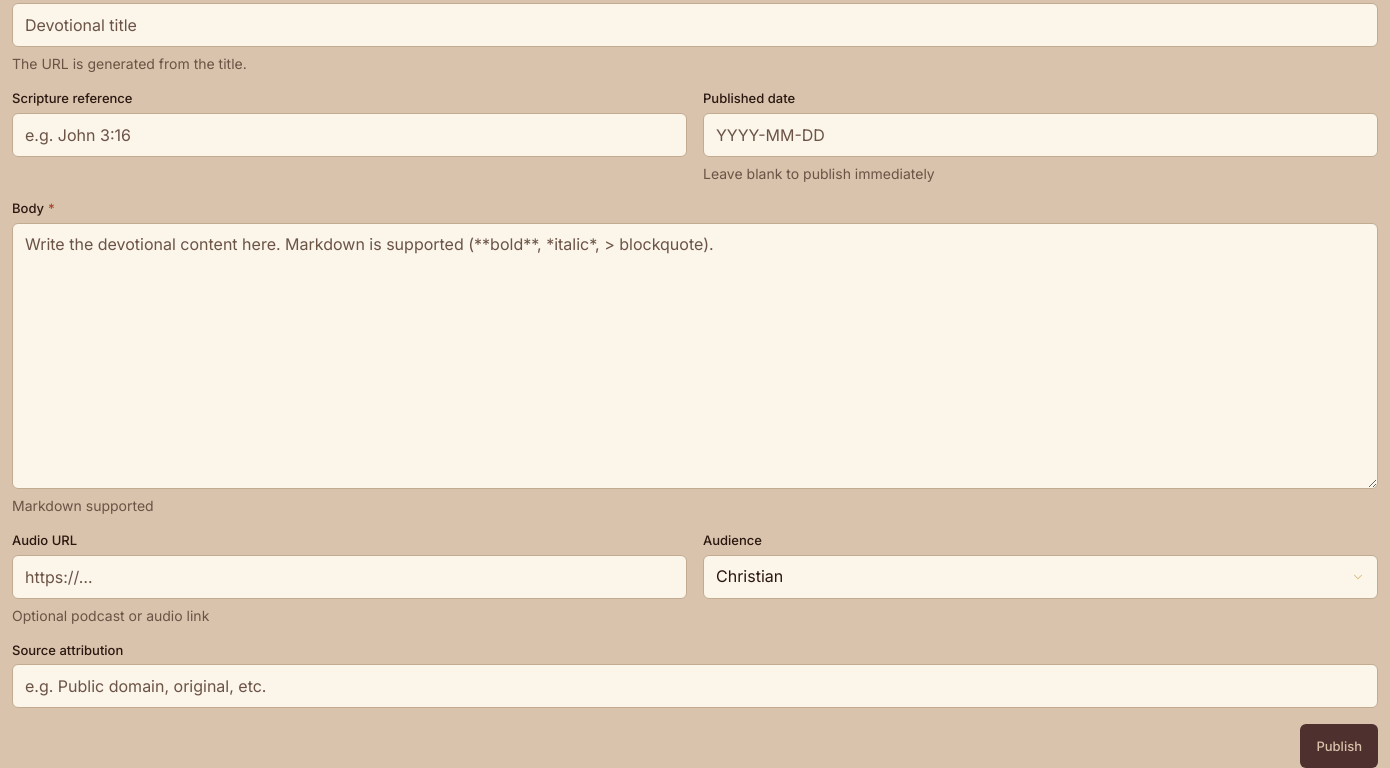
Test: DevotionalForm › shows validation error when title is empty on submit
(page scrolled)
Click the button "Publish" at (1339, 746), box [1300,724,1378,767]
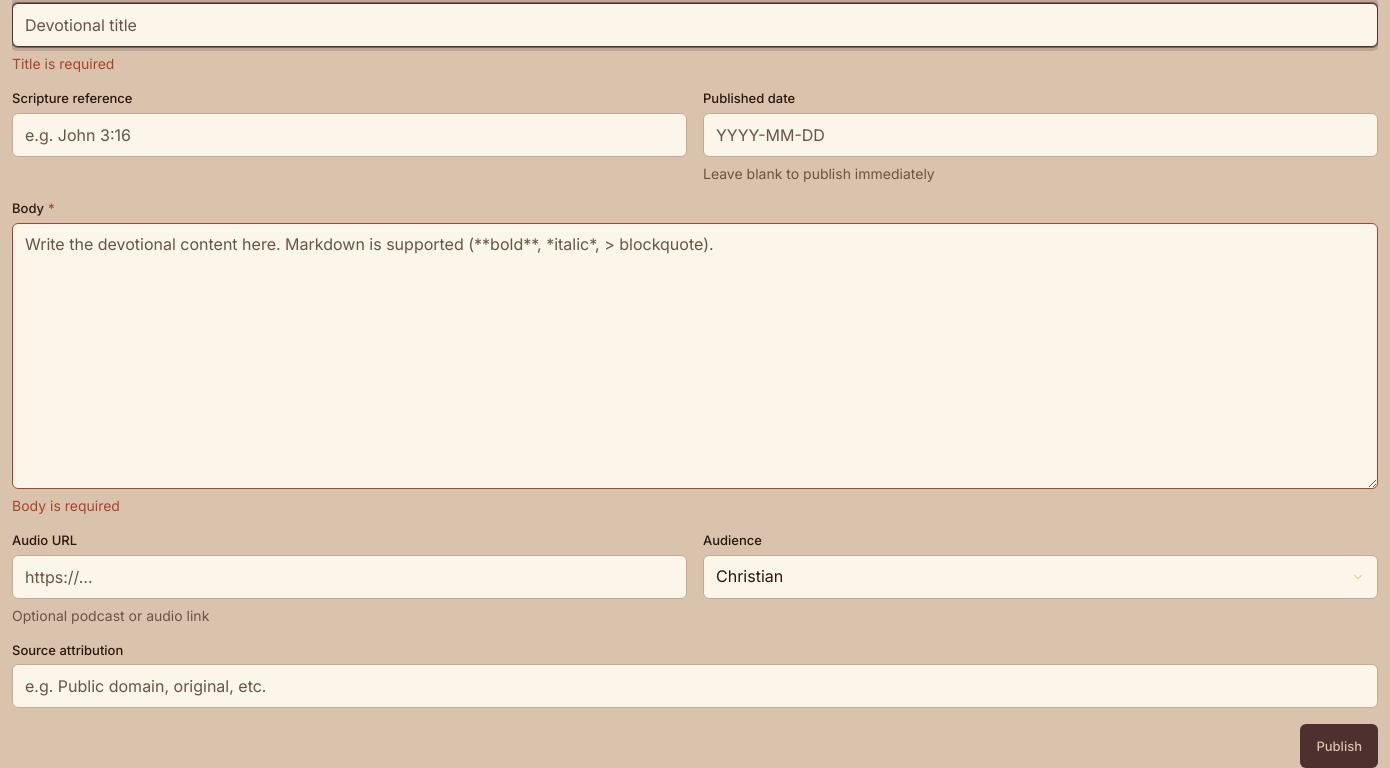
Check: the text "Title is required" is shown, box [12,55,114,72]
